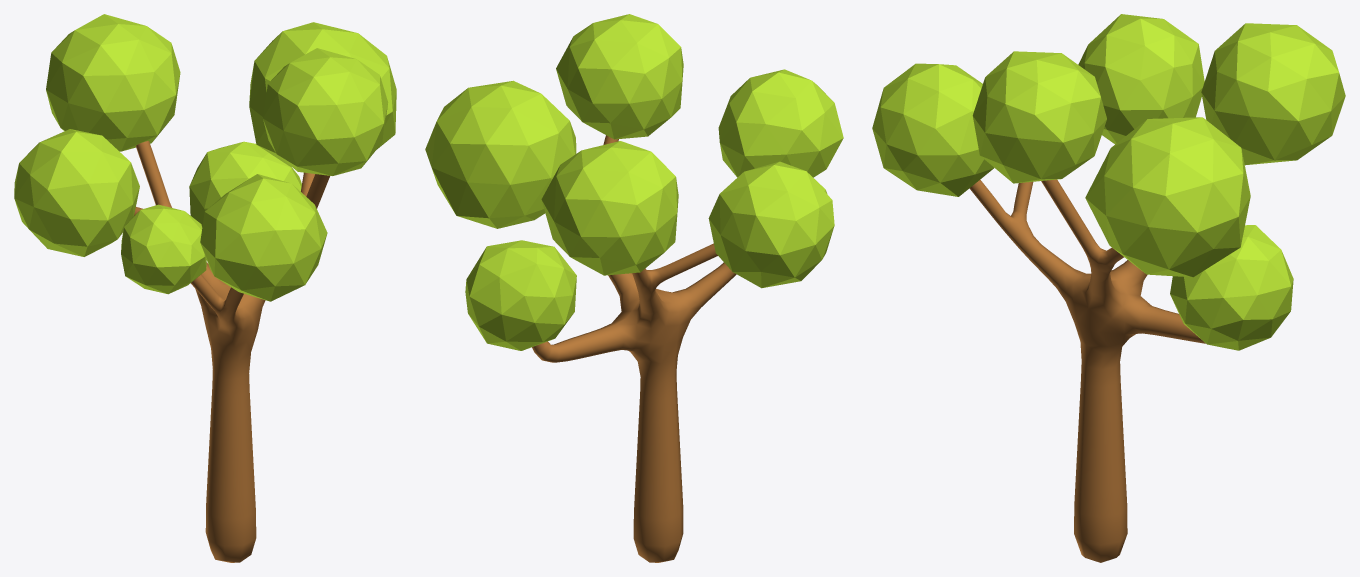
File: rgr-tree4.fbx
3 views of the same model, side by side, from view 1: azimuth 30°, elevation 25°; view 2: azimuth 150°, elevation 25°; view 3: azimuth 270°, elevation 25° (orthographic). The views are drawn at different scales.
Parts seen in each view (by area): view 1: Plane; view 2: Plane; view 3: Plane.
Boxes of the visible parts, x1,y1,x2,y2 form: Plane: (14, 14, 396, 562); Plane: (425, 14, 843, 562); Plane: (872, 14, 1345, 562).
Bounding box in the file's own units: 993 × 1281 × 1022.
